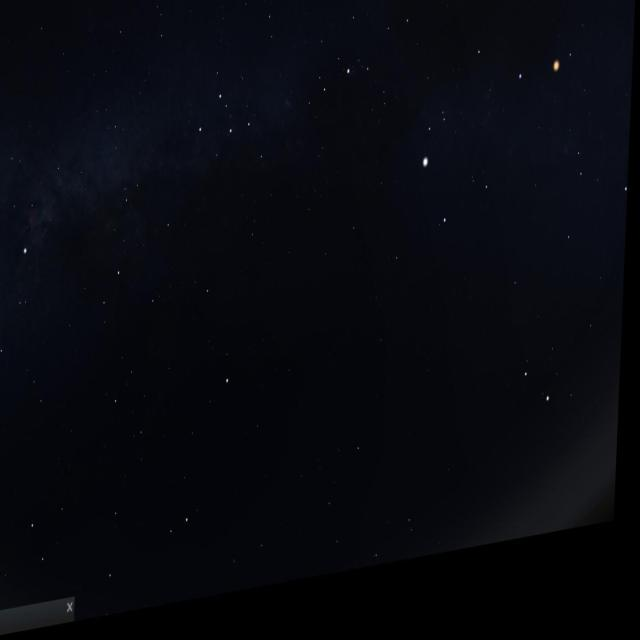cassiopeia: (193, 77, 279, 205)
